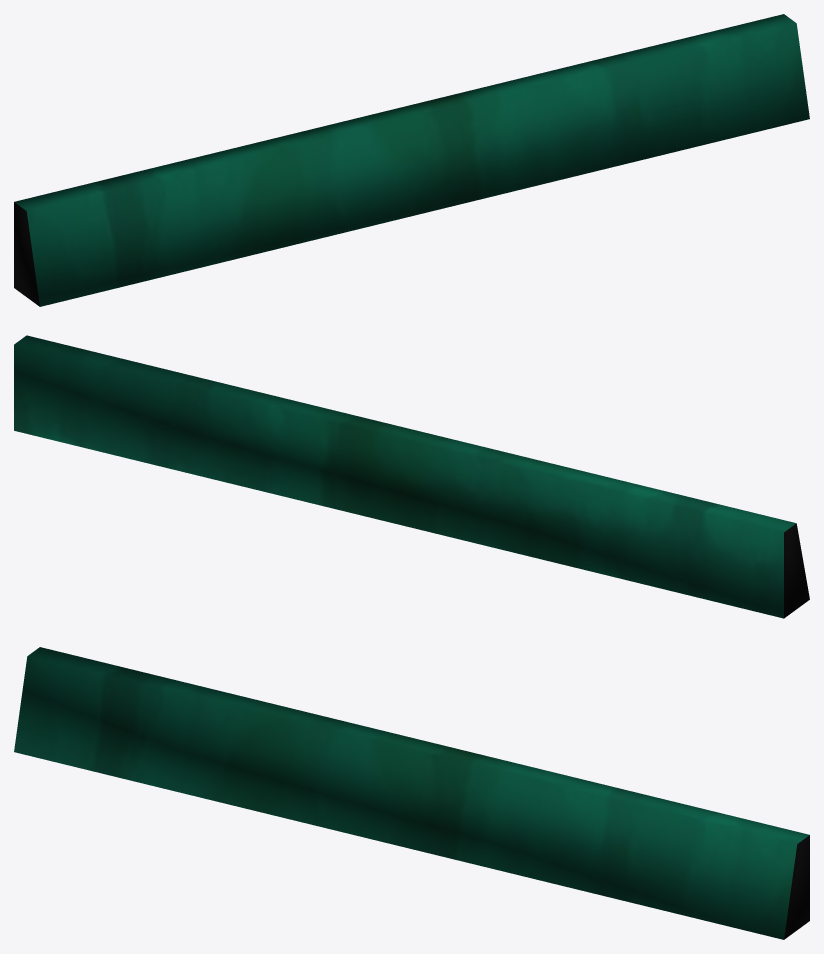
Rendered from Frogames_DP_lowwall_2.FBX.
The picture shows the model from 3 angles, top to bottom: view 1: azimuth 30°, elevation 25°; view 2: azimuth 150°, elevation 25°; view 3: azimuth 330°, elevation 25°; orthographic projection.
Visible parts, largest first — view 1: lowwall_2; view 2: lowwall_2; view 3: lowwall_2.
Boxes of the visible parts, box(x1,y1,x2,y2) form: lowwall_2: box(14, 14, 809, 306); lowwall_2: box(14, 335, 809, 618); lowwall_2: box(14, 647, 809, 939).
Bounding box in the file's own units: 20 × 1.17 × 2.14.
